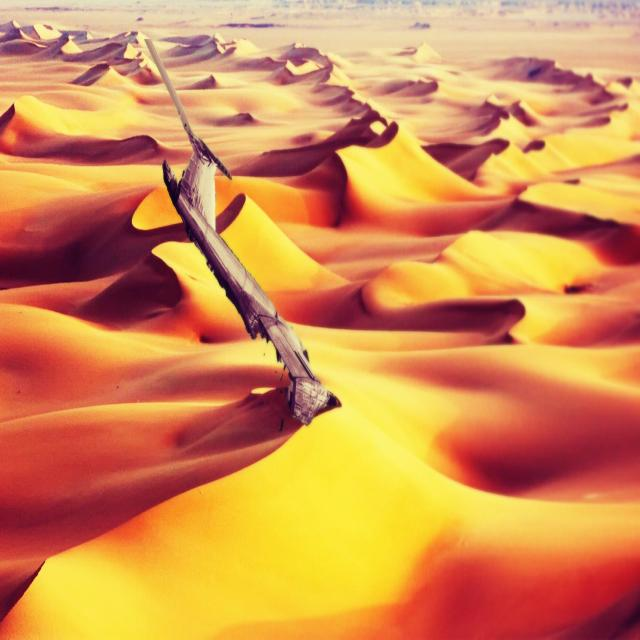airplane: (144, 39, 329, 427)
